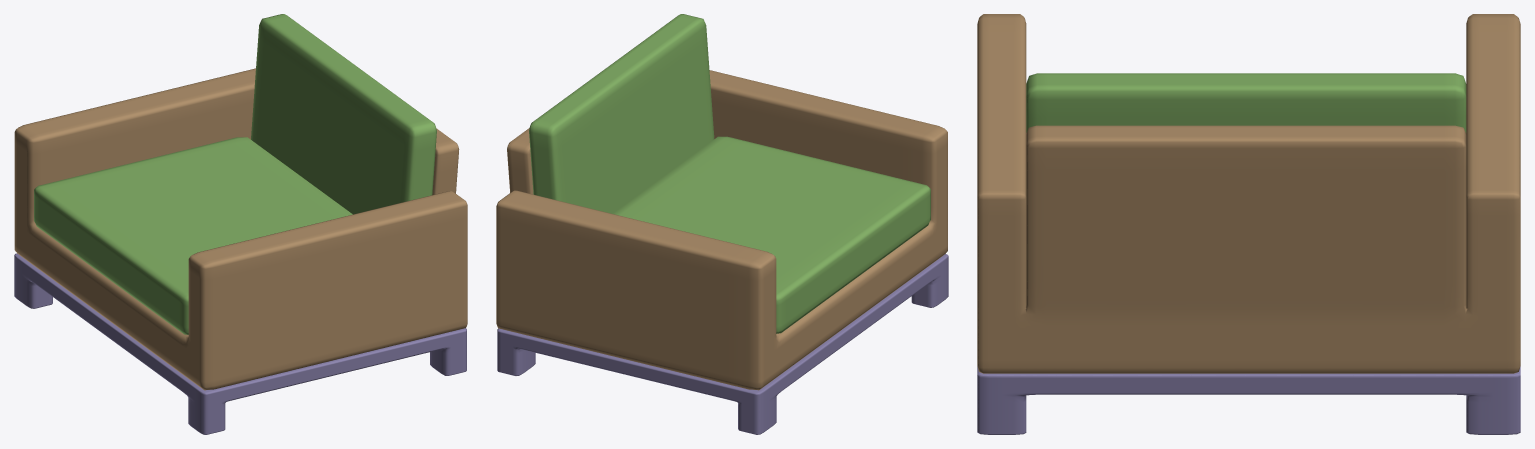
Rendered from Couch_Small.fbx.
3 renders of one model, left to right at view 1: azimuth 30°, elevation 25°; view 2: azimuth 150°, elevation 25°; view 3: azimuth 270°, elevation 25°, orthographic. The views are drawn at different scales.
Parts seen in each view (by area): view 1: Couch_Small; view 2: Couch_Small; view 3: Couch_Small.
Boxes of the visible parts, left/top/right/bottom form: Couch_Small: left=14, top=14, right=467, bottom=434; Couch_Small: left=496, top=14, right=948, bottom=434; Couch_Small: left=977, top=14, right=1520, bottom=434.
Size of the model in its own units: 3.52 by 2.92 by 4.25.
